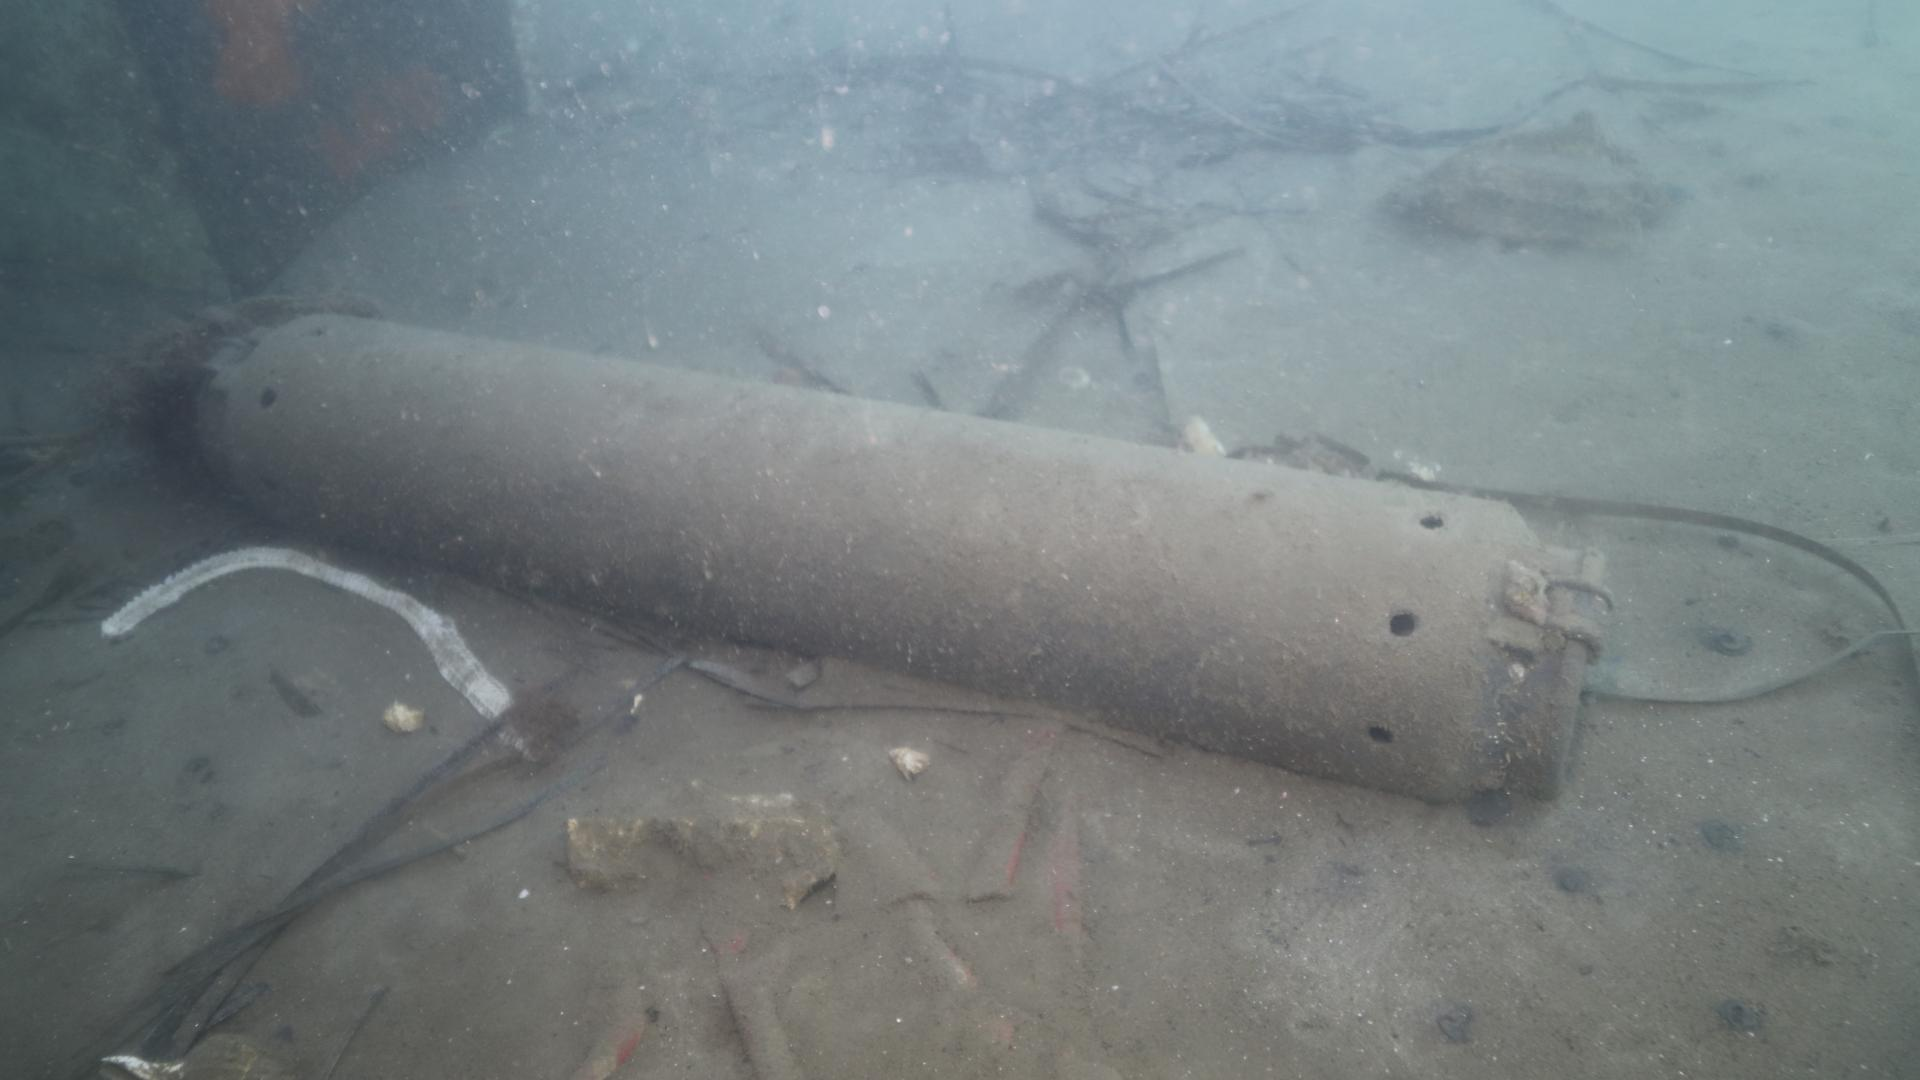eel fish trap: (194, 302, 1617, 818)
